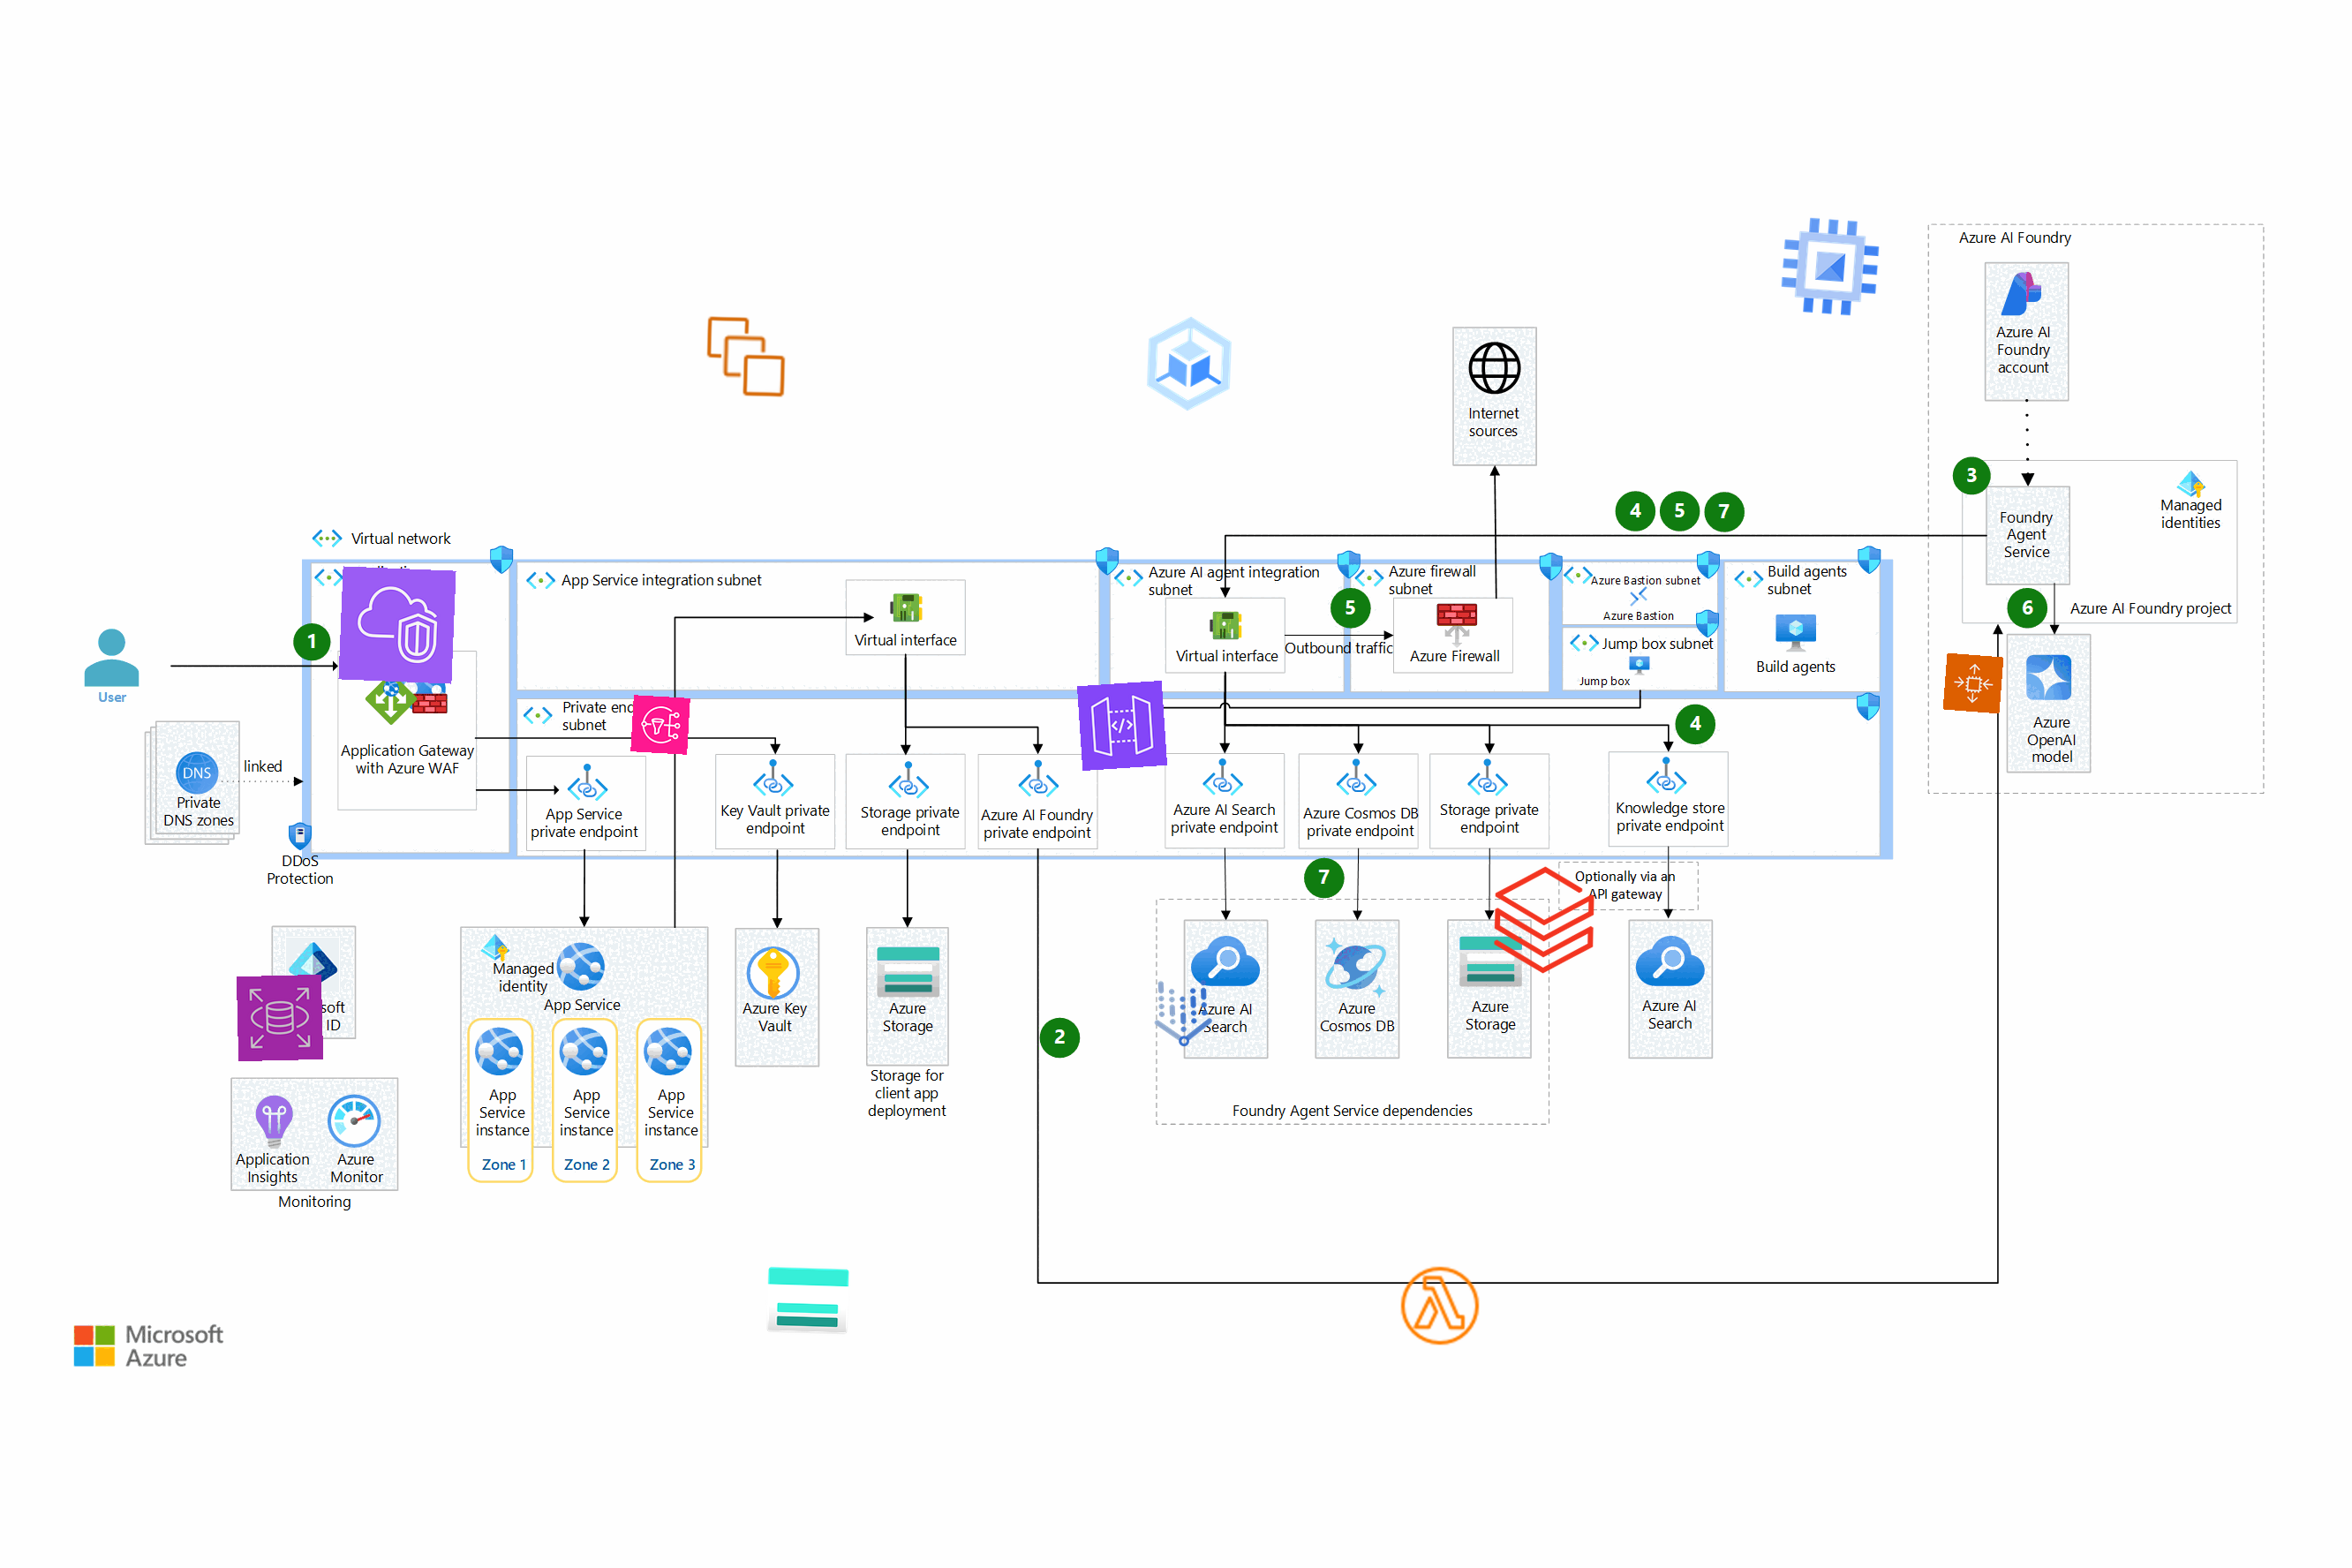aws_amazon_api_gateway: (1076, 679, 1167, 772)
aws_amazon_ec2_auto_scaling: (1942, 653, 2004, 714)
aws_amazon_rds: (236, 973, 324, 1062)
aws_amazon_simple_notification_service: (630, 695, 691, 754)
aws_amazon_virtual_private_cloud: (338, 565, 457, 684)
aws_ec2_instances: (702, 313, 791, 401)
aws_lambda_lambda_function: (1396, 1262, 1484, 1349)
azure_databricks: (1486, 861, 1603, 978)
azure_storage_accounts: (763, 1256, 852, 1344)
gcp_compute_engine: (1769, 206, 1892, 327)
gcp_google_kubernetes_engine: (1130, 304, 1248, 423)
gcp_vertex_ai: (1139, 969, 1227, 1057)
